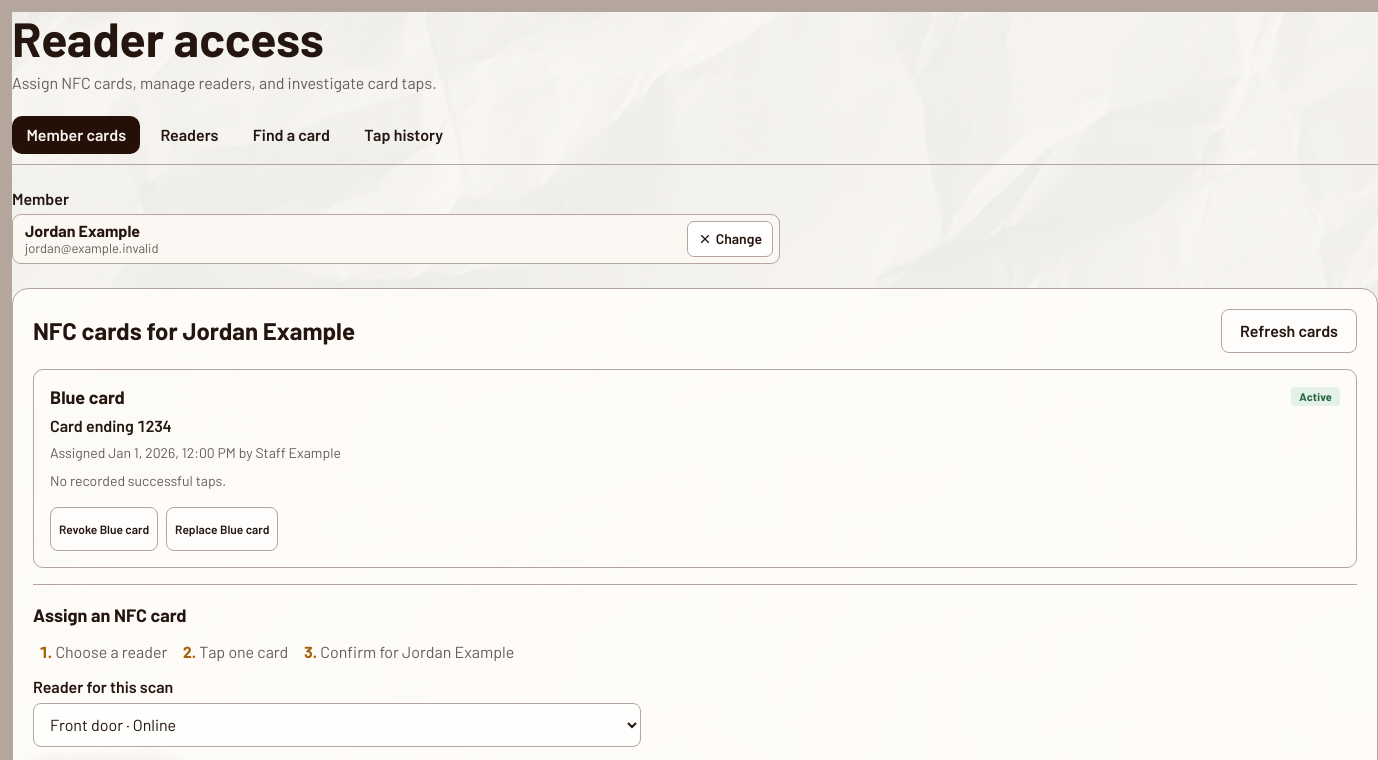
Test: refresh cards refetches the same member and displays assignment metadata
Expected: the text "Card ending 1234" is shown, [50,416,172,435]
Expected: the text "Assigned Jan 1, 2026, 12:00 PM by Staff Example" is shown, [50,444,341,461]
Step 1. Click the button "Refresh cards" → x=1289, y=331, box [1221,309,1357,353]
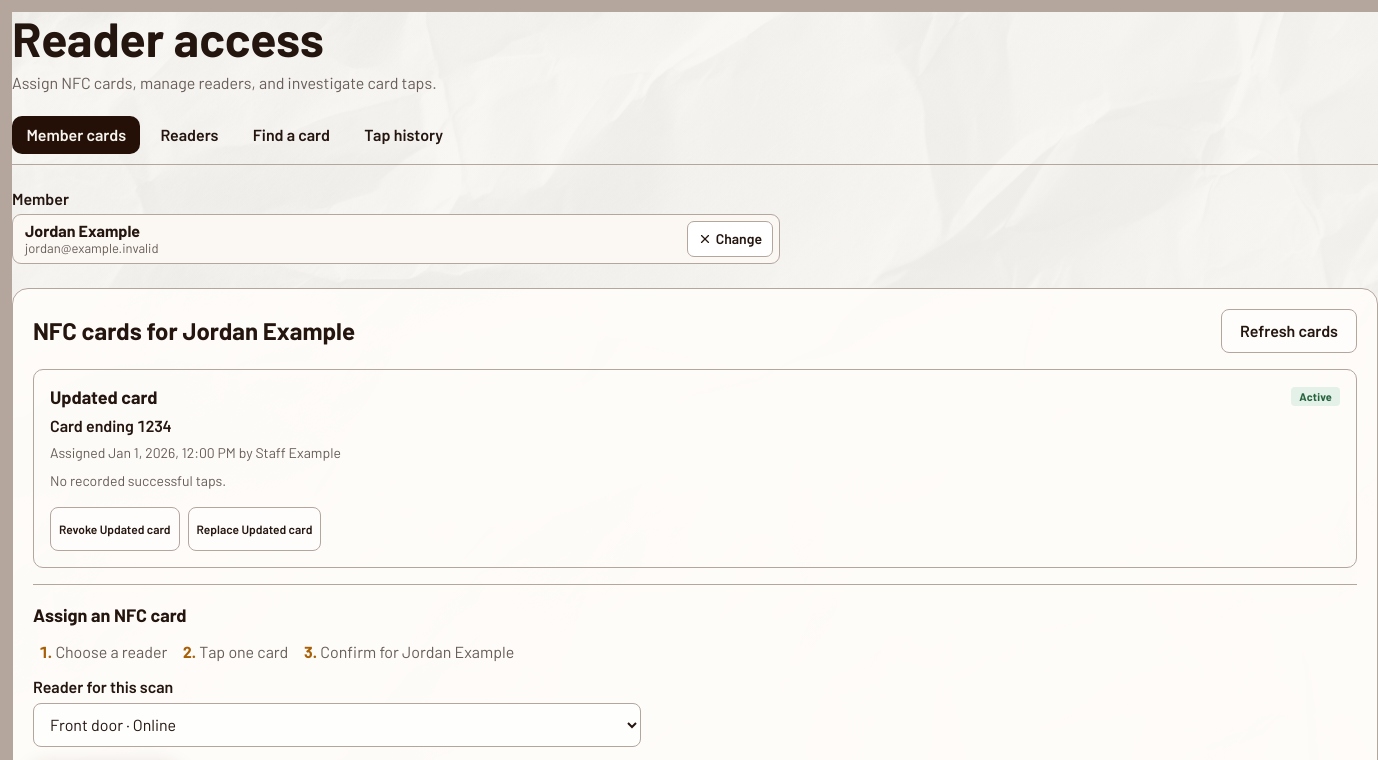
Expected: the heading "Updated card" is shown, [50,386,157,408]
